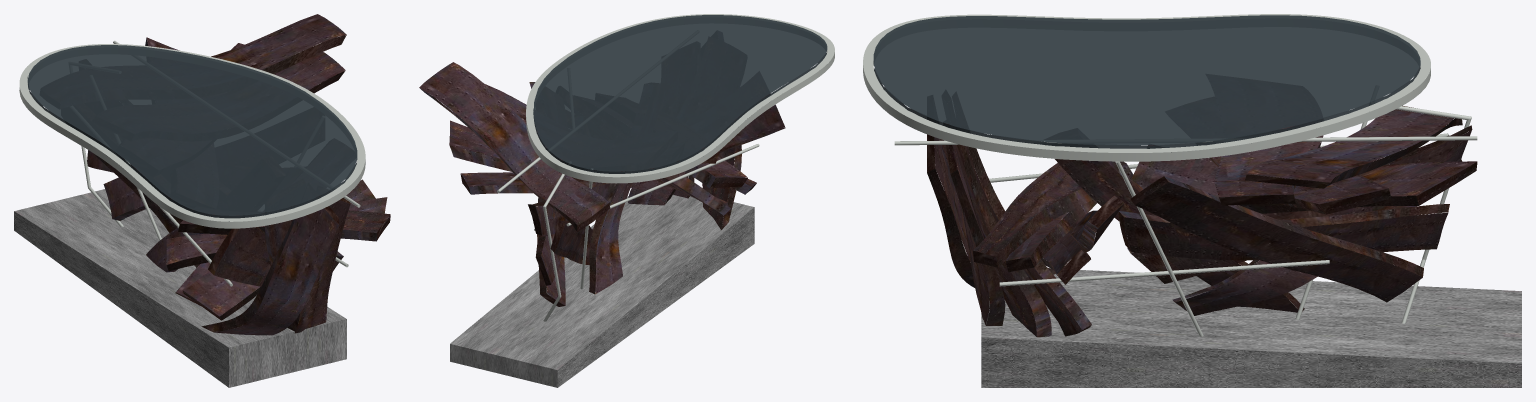
File: BROWNSHARTABLE-OG-v82.glb
3 renders of one model, left to right at view 1: azimuth 30°, elevation 25°; view 2: azimuth 150°, elevation 25°; view 3: azimuth 270°, elevation 25°, orthographic. The views are drawn at different scales.
Parts seen in each view (by area): view 1: BROWNSHARTABLE-OG; view 2: BROWNSHARTABLE-OG; view 3: BROWNSHARTABLE-OG.
Boxes of the visible parts, x1,y1,x2,y2 form: BROWNSHARTABLE-OG: (14, 14, 390, 387); BROWNSHARTABLE-OG: (419, 14, 834, 387); BROWNSHARTABLE-OG: (863, 14, 1521, 387).
Size of the model in its own units: 1.88 by 1.34 by 2.86.
4 materials, 2 textured.
